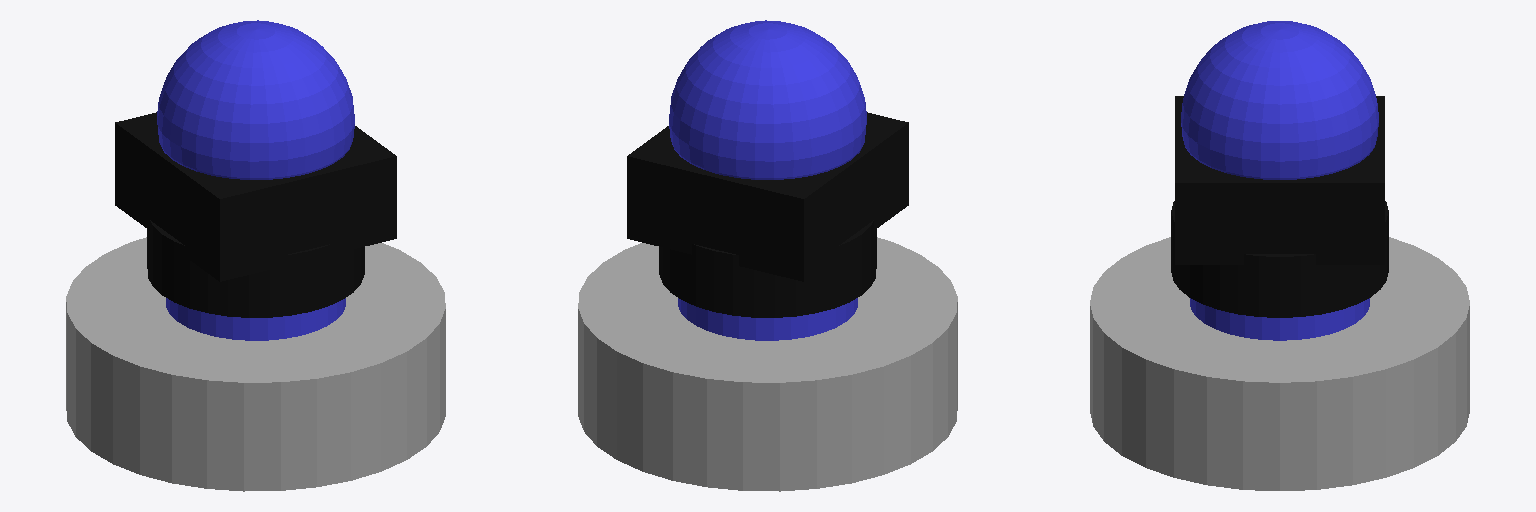
robot.urdf — evolved_robot:
<?xml version="1.0"?>
<robot name="evolved_robot">
  <material name="metal">
    <color rgba="0.7 0.7 0.7 1.0"/>
  </material>
  <material name="plastic">
    <color rgba="0.3 0.3 0.9 1.0"/>
  </material>
  <material name="rubber">
    <color rgba="0.1 0.1 0.1 1.0"/>
  </material>
  <material name="red">
    <color rgba="1.0 0.0 0.0 1.0"/>
  </material>
  <material name="wheel_material">
    <color rgba="0.2 0.2 0.2 1.0"/>
  </material>
  <link name="base_link">
    <visual>
      <geometry><cylinder radius="0.14140091964255042" length="0.08906482229332736"/></geometry>
      <material name="metal"/>
    </visual>
    <collision>
      <geometry><cylinder radius="0.14140091964255042" length="0.08906482229332736"/></geometry>
    </collision>
    <inertial>
      <mass value="5.0"/>
      <inertia ixx="0.05659600233118248" ixy="0" ixz="0" 
               iyy="0.05659600233118248" iyz="0" 
               izz="0.099971100378795"/>
    </inertial>
  </link>
  <link name="link1">
    <visual>
      <geometry><cylinder radius="0.06727255880032743" length="0.14200420811389727"/></geometry>
      <material name="plastic"/>
    </visual>
    <collision>
      <geometry><cylinder radius="0.06727255880032743" length="0.14200420811389727"/></geometry>
    </collision>
    <inertial>
      <mass value="0.5"/>
      <inertia ixx="0.0028118322187237984" ixy="0" ixz="0" 
               iyy="0.0028118322187237984" iyz="0" 
               izz="0.0022627985837717557"/>
    </inertial>
  </link>
  <joint name="joint1" type="prismatic">
    <parent link="base_link"/>
    <child link="link1"/>
    <origin xyz="0 0 0.04453241114666368" rpy="0 0 0"/>
    <axis xyz="-0.7413731694092673 -0.5409328260737538 0.3971869853808401"/>
    <dynamics damping="0.6437631570269855" friction="0.1"/>
    <limit lower="-1.668487214228799" upper="0.9475464550174293" effort="100" velocity="100"/>
  </joint>
  <link name="link2">
    <visual>
      <geometry><cylinder radius="0.08081102351563813" length="0.05"/></geometry>
      <material name="rubber"/>
    </visual>
    <collision>
      <geometry><cylinder radius="0.08081102351563813" length="0.05"/></geometry>
    </collision>
    <inertial>
      <mass value="0.5"/>
      <inertia ixx="0.001840938713744588" ixy="0" ixz="0" 
               iyy="0.001840938713744588" iyz="0" 
               izz="0.003265210760822509"/>
    </inertial>
  </link>
  <joint name="joint2" type="revolute">
    <parent link="base_link"/>
    <child link="link2"/>
    <origin xyz="0 0 0.09453241114666369" rpy="0 0 0"/>
    <axis xyz="0.0 1.0 0.0"/>
    <dynamics damping="0.6987224260398152" friction="0.1"/>
    <limit lower="-0.9769207231415241" upper="1.644197884537932" effort="100" velocity="100"/>
  </joint>
  <link name="link3">
    <visual>
      <geometry><box size="0.15197306139109826 0.1557937948971836 0.06782409196398548"/></geometry>
      <material name="rubber"/>
    </visual>
    <collision>
      <geometry><box size="0.15197306139109826 0.1557937948971836 0.06782409196398548"/></geometry>
    </collision>
    <inertial>
      <mass value="0.5"/>
      <inertia ixx="0.0024059844982670725" ixy="0" ixz="0" 
               iyy="0.0023079932366101403" iyz="0" 
               izz="0.003947293159754019"/>
    </inertial>
  </link>
  <joint name="joint3" type="prismatic">
    <parent link="base_link"/>
    <child link="link3"/>
    <origin xyz="0 0 0.14453241114666368" rpy="0 0 0"/>
    <axis xyz="-0.2688667132309967 0.9402150191327459 0.20906077660233519"/>
    <dynamics damping="0.5898142173727758" friction="0.1"/>
    <limit lower="-1.6624031032261755" upper="1.9719597524889452" effort="100" velocity="100"/>
  </joint>
  <link name="link4">
    <visual>
      <geometry><sphere radius="0.07384759083154224"/></geometry>
      <material name="plastic"/>
    </visual>
    <collision>
      <geometry><sphere radius="0.07384759083154224"/></geometry>
    </collision>
    <inertial>
      <mass value="0.5"/>
      <inertia ixx="0.002181386668649153" ixy="0" ixz="0" 
               iyy="0.002181386668649153" iyz="0" 
               izz="0.002181386668649153"/>
    </inertial>
  </link>
  <joint name="joint4" type="prismatic">
    <parent link="base_link"/>
    <child link="link4"/>
    <origin xyz="0 0 0.1945324111466637" rpy="0 0 0"/>
    <axis xyz="-0.07982632688899458 -0.9085538606541302 -0.4100702864459781"/>
    <dynamics damping="0.7617778135493298" friction="0.1"/>
    <limit lower="-0.6705610024174679" upper="1.2738710232739712" effort="100" velocity="100"/>
  </joint>
</robot>

--- Render facts (derived) ---
3 views of the same robot in one strip: view 1: azimuth 30°, elevation 25°; view 2: azimuth 150°, elevation 25°; view 3: azimuth 270°, elevation 25° (orthographic).
Model evolved_robot with 5 links and 4 joints (1 revolute, 3 prismatic), rooted at base_link, posed every joint at zero.
Visible links, largest first — view 1: base_link, link3, link4, link2, link1; view 2: base_link, link3, link4, link2, link1; view 3: base_link, link4, link3, link2, link1.
Link boxes in pixels (x1,y1,x2,y2): base_link: (66,237,445,491); link3: (115,112,396,281); link4: (157,20,354,179); link2: (147,220,364,317); link1: (166,298,345,340); base_link: (578,237,957,491); link3: (627,112,908,281); link4: (669,20,866,179); link2: (659,220,876,317); link1: (678,298,857,340); base_link: (1090,237,1469,490); link4: (1181,21,1378,179); link3: (1175,96,1384,264); link2: (1171,201,1388,317); link1: (1190,298,1369,340).
Bounding box of the posed robot: 0.2828 × 0.2828 × 0.3129 m (x, y, z).
Geometry: primitives only (box / cylinder / sphere), no mesh files.